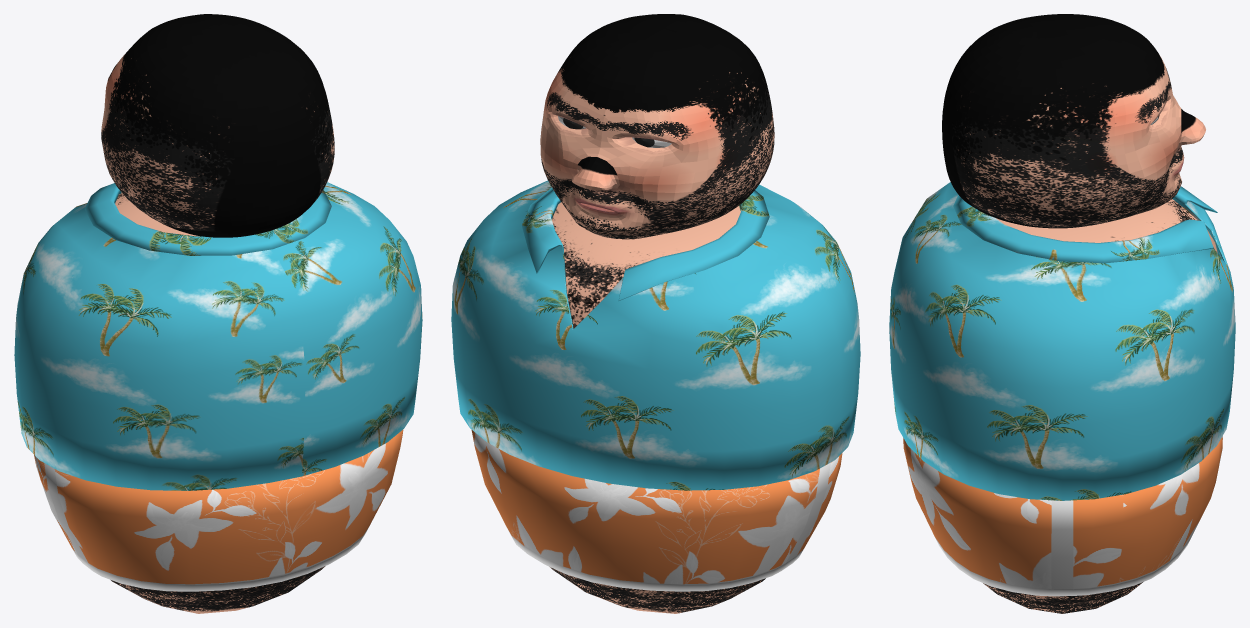
The model's file is recep3.fbx.
3 renders of one model, left to right at view 1: azimuth 30°, elevation 25°; view 2: azimuth 150°, elevation 25°; view 3: azimuth 270°, elevation 25°, orthographic.
Parts seen in each view (by area): view 1: tshirt.002, head.002, pant.002, body.002; view 2: tshirt.002, head.002, pant.002, body.002; view 3: tshirt.002, head.002, pant.002, body.002.
Part boxes in pixels (x1,y1,x2,y2): tshirt.002: [14, 182, 422, 490]; head.002: [101, 14, 334, 237]; pant.002: [34, 429, 403, 591]; body.002: [111, 192, 325, 613]; tshirt.002: [451, 180, 860, 490]; head.002: [540, 14, 774, 239]; pant.002: [471, 430, 842, 591]; body.002: [550, 202, 765, 613]; tshirt.002: [889, 182, 1235, 500]; head.002: [942, 14, 1205, 228]; pant.002: [903, 436, 1222, 596]; body.002: [983, 199, 1217, 613].
Size of the model in its own units: 125 by 101 by 183.
